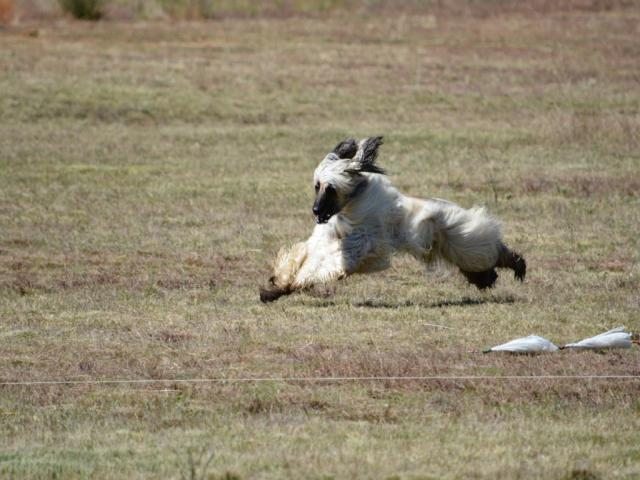Dog: (258, 136, 528, 302)
